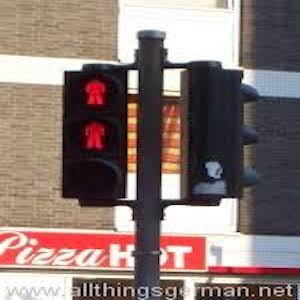red: (79, 121, 108, 157), (81, 79, 107, 106)
